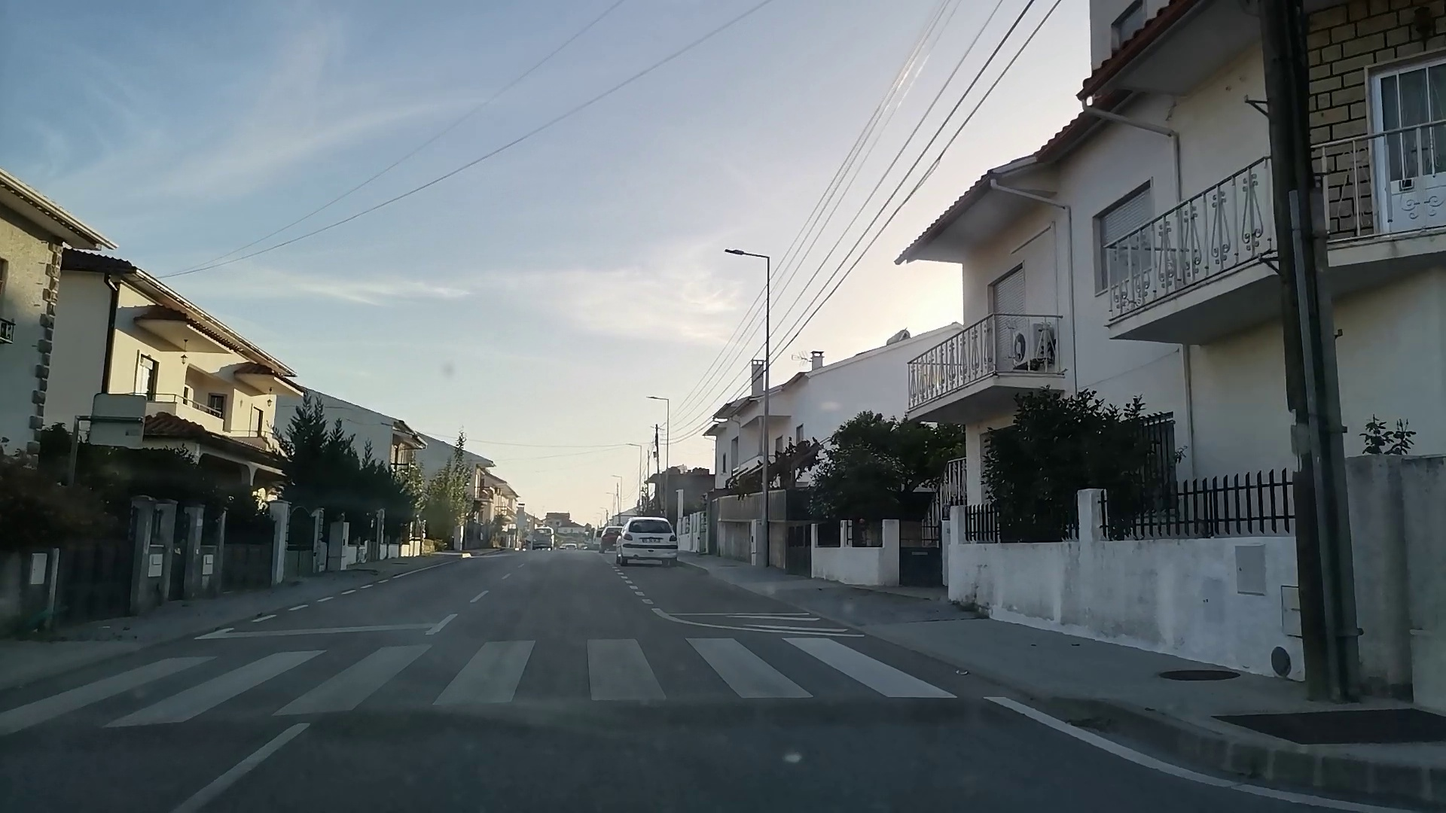Stairs: (142, 633, 977, 723)
